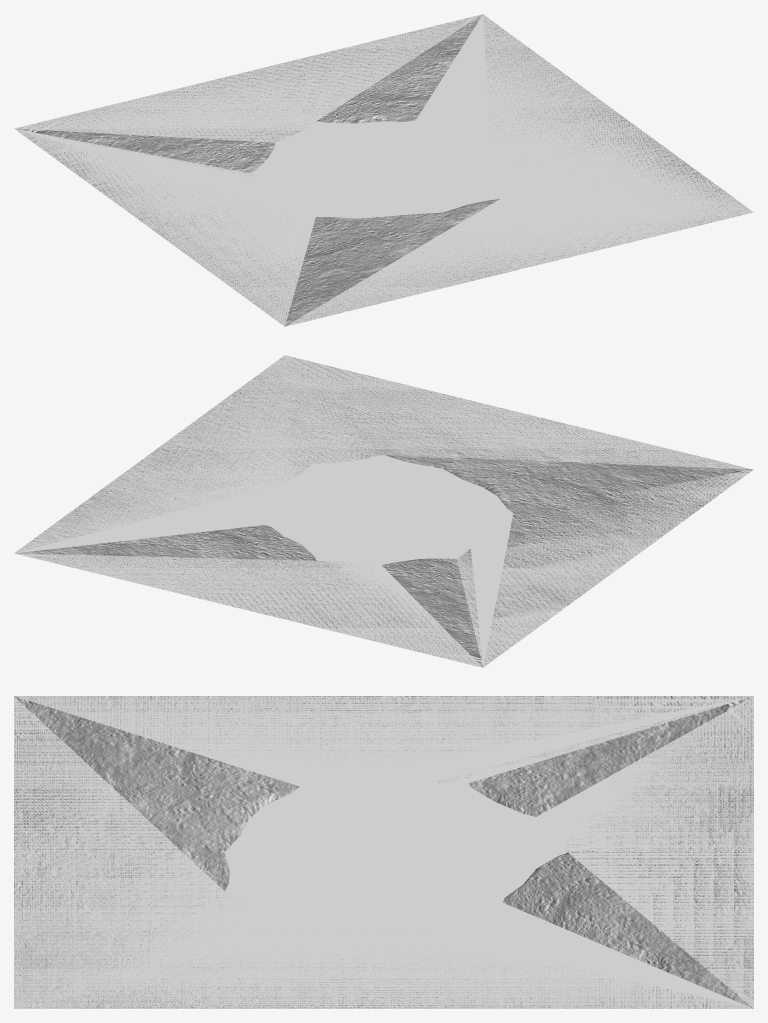
File: mepool00_vsr.FBX
3 renders of one model, top to bottom at view 1: azimuth 30°, elevation 25°; view 2: azimuth 150°, elevation 25°; view 3: azimuth 270°, elevation 25°, orthographic. The views are drawn at different scales.
Visible parts, largest first — view 1: terrain__h, terrain; view 2: terrain__h, terrain; view 3: terrain__h, terrain.
Boxes of the visible parts, x1,y1,x2,y2 form: terrain__h: (14, 14, 753, 326); terrain: (15, 14, 751, 326); terrain__h: (14, 355, 752, 667); terrain: (14, 355, 753, 667); terrain__h: (14, 696, 753, 1008); terrain: (14, 696, 753, 1008).
Size of what is drawn, in the model's own units: 32 by 2.3 by 32.
